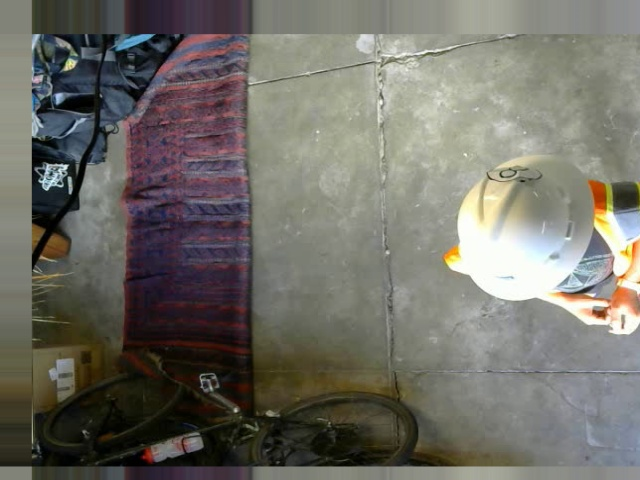eight: (483, 163, 543, 183)
